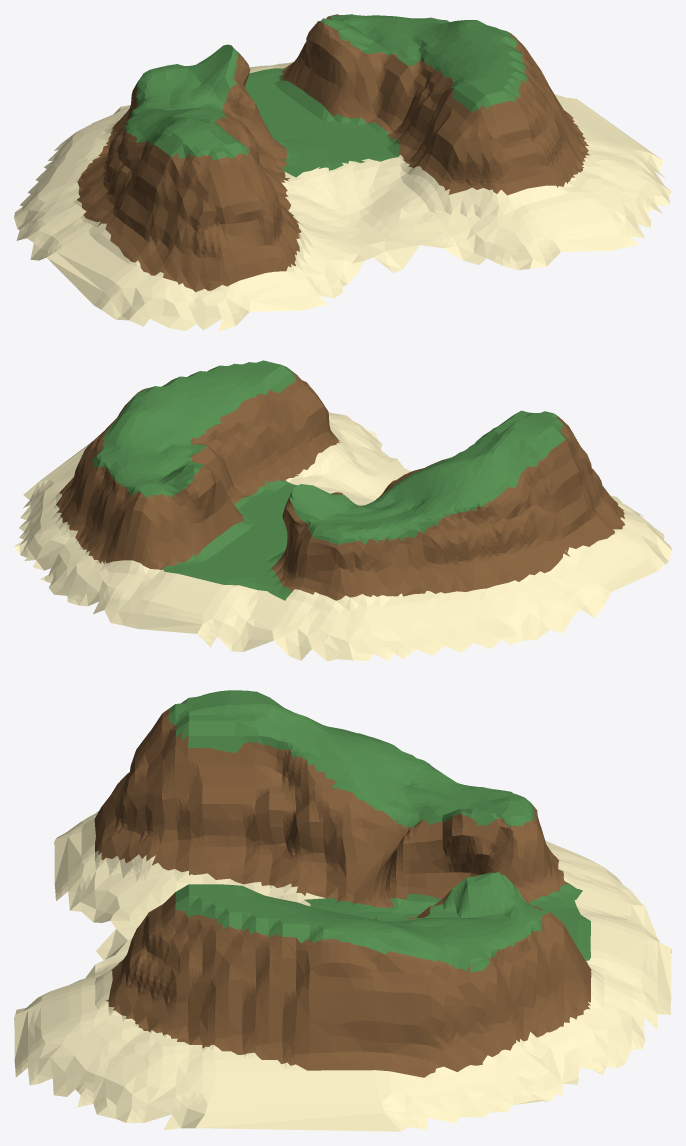
Rendered from islandNew3.fbx.
3 views of the same model, one above another, from view 1: azimuth 30°, elevation 25°; view 2: azimuth 150°, elevation 25°; view 3: azimuth 270°, elevation 25° (orthographic). The views are drawn at different scales.
Visible parts, largest first — view 1: Plane.005; view 2: Plane.005; view 3: Plane.005.
Boxes of the visible parts, x1,y1,x2,y2 form: Plane.005: (14, 14, 671, 331); Plane.005: (14, 360, 671, 661); Plane.005: (14, 690, 671, 1131).
Bounding box in the file's own units: 1882 × 440 × 1539.
